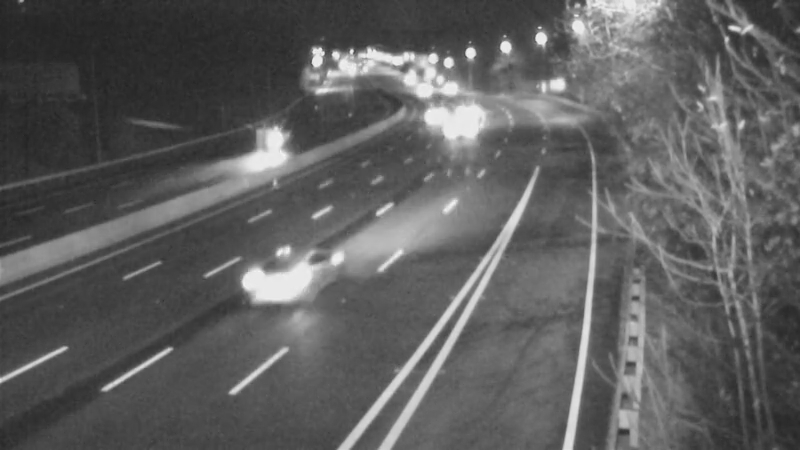vehicle: (249, 254, 329, 334), (427, 64, 477, 114), (392, 64, 442, 114), (441, 87, 491, 137), (411, 92, 461, 142), (436, 102, 486, 152), (250, 119, 300, 169)
